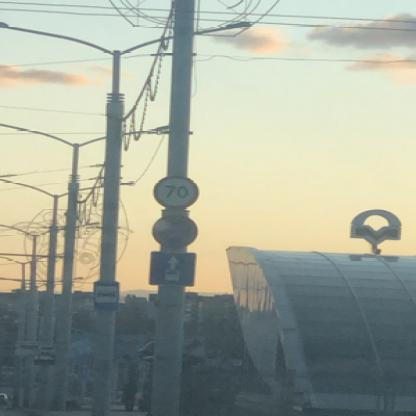speedlimit: (151, 174, 196, 210)
